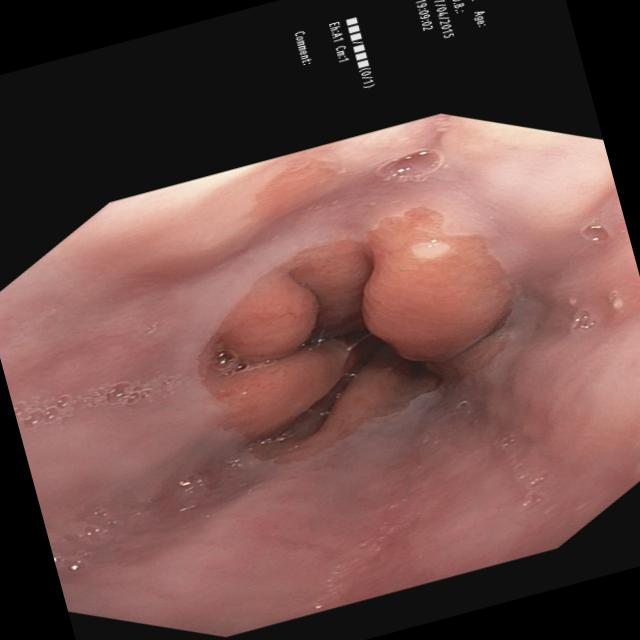Normal-Z-Line: (194, 209, 521, 469), (251, 161, 348, 221)
